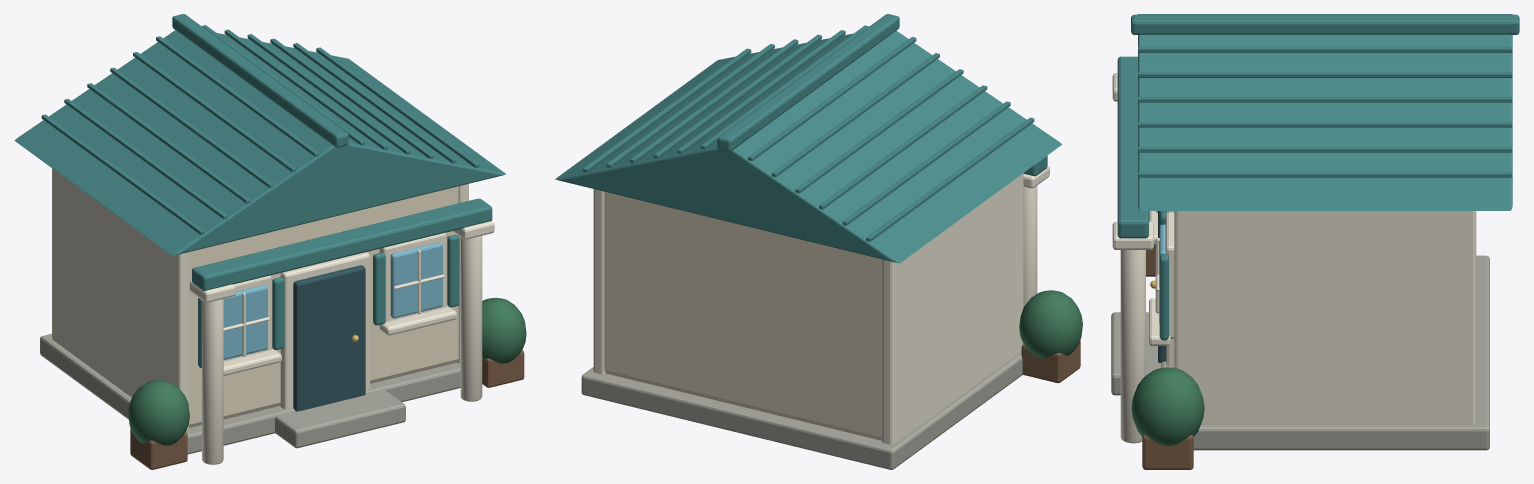
The model's file is house-tropical.glb.
3 renders of one model, left to right at view 1: azimuth 30°, elevation 25°; view 2: azimuth 150°, elevation 25°; view 3: azimuth 270°, elevation 25°, orthographic. The views are drawn at different scales.
Visible parts, largest first — view 1: Geometry_Roof, Geometry_Trim, Geometry_Wall, Geometry_Foundation, Geometry_Door, Geometry_Plant, Geometry_Glass, Geometry_Wood; view 2: Geometry_Roof, Geometry_Wall, Geometry_Trim, Geometry_Foundation, Geometry_Plant, Geometry_Wood; view 3: Geometry_Roof, Geometry_Trim, Geometry_Foundation, Geometry_Plant, Geometry_Wood.
Boxes of the visible parts, x1=… form: Geometry_Roof: x1=14, y1=14, x2=505, y2=367; Geometry_Trim: x1=52, y1=168, x2=494, y2=464; Geometry_Wall: x1=189, y1=186, x2=458, y2=427; Geometry_Foundation: x1=40, y1=333, x2=460, y2=454; Geometry_Door: x1=293, y1=265, x2=365, y2=411; Geometry_Plant: x1=128, y1=297, x2=526, y2=445; Geometry_Glass: x1=223, y1=242, x2=442, y2=359; Geometry_Wood: x1=130, y1=350, x2=524, y2=469; Geometry_Roof: x1=555, y1=14, x2=1061, y2=263; Geometry_Wall: x1=604, y1=191, x2=882, y2=440; Geometry_Trim: x1=593, y1=165, x2=1049, y2=444; Geometry_Foundation: x1=581, y1=351, x2=1022, y2=469; Geometry_Plant: x1=1019, y1=290, x2=1082, y2=358; Geometry_Wood: x1=1021, y1=340, x2=1080, y2=383; Geometry_Roof: x1=1117, y1=14, x2=1519, y2=340; Geometry_Trim: x1=1112, y1=73, x2=1476, y2=443; Geometry_Foundation: x1=1111, y1=255, x2=1489, y2=450; Geometry_Plant: x1=1131, y1=245, x2=1204, y2=445; Geometry_Wood: x1=1142, y1=248, x2=1193, y2=469.
Bounding box in the file's own units: 5.8 × 4.19 × 4.46.
